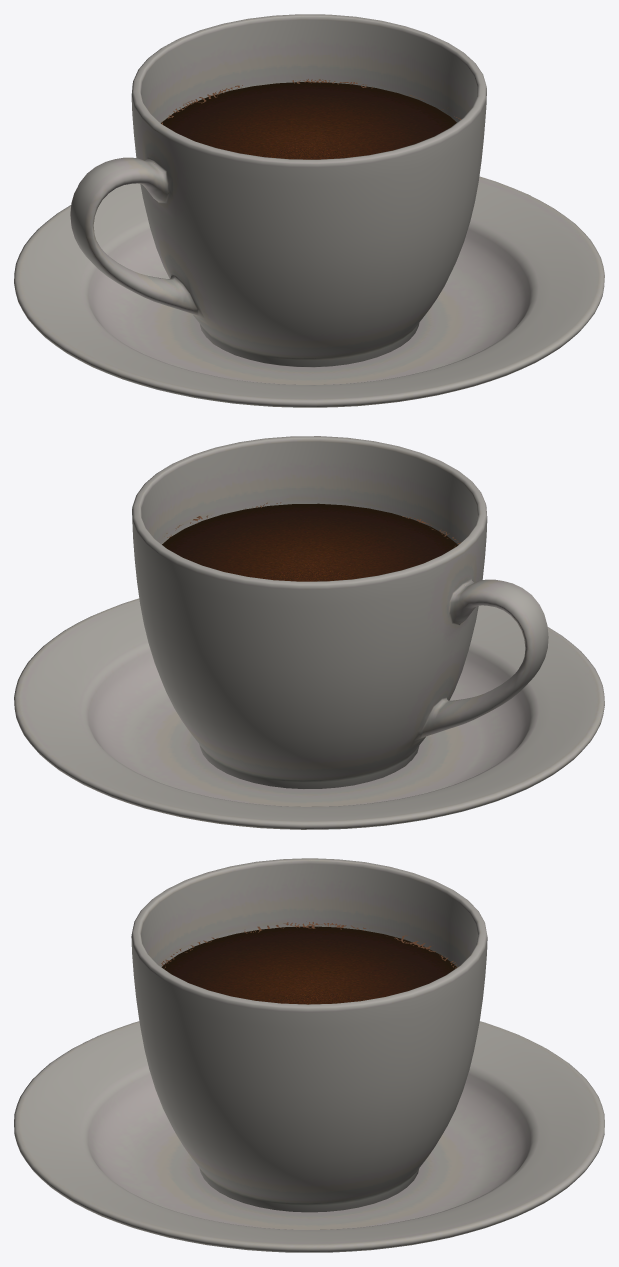
Rendered from CoffeeCupNew.fbx.
The picture shows the model from 3 angles, top to bottom: view 1: azimuth 30°, elevation 25°; view 2: azimuth 150°, elevation 25°; view 3: azimuth 270°, elevation 25°; orthographic projection.
Parts seen in each view (by area): view 1: node_id33; view 2: node_id33; view 3: node_id33.
Boxes of the visible parts, bbox=[...] form: node_id33: bbox=[14, 14, 604, 407]; node_id33: bbox=[14, 436, 604, 829]; node_id33: bbox=[14, 858, 604, 1252].
Bounding box in the file's own units: 0.512 × 0.229 × 0.5119.
Materials: 2 (2 with a texture image).
